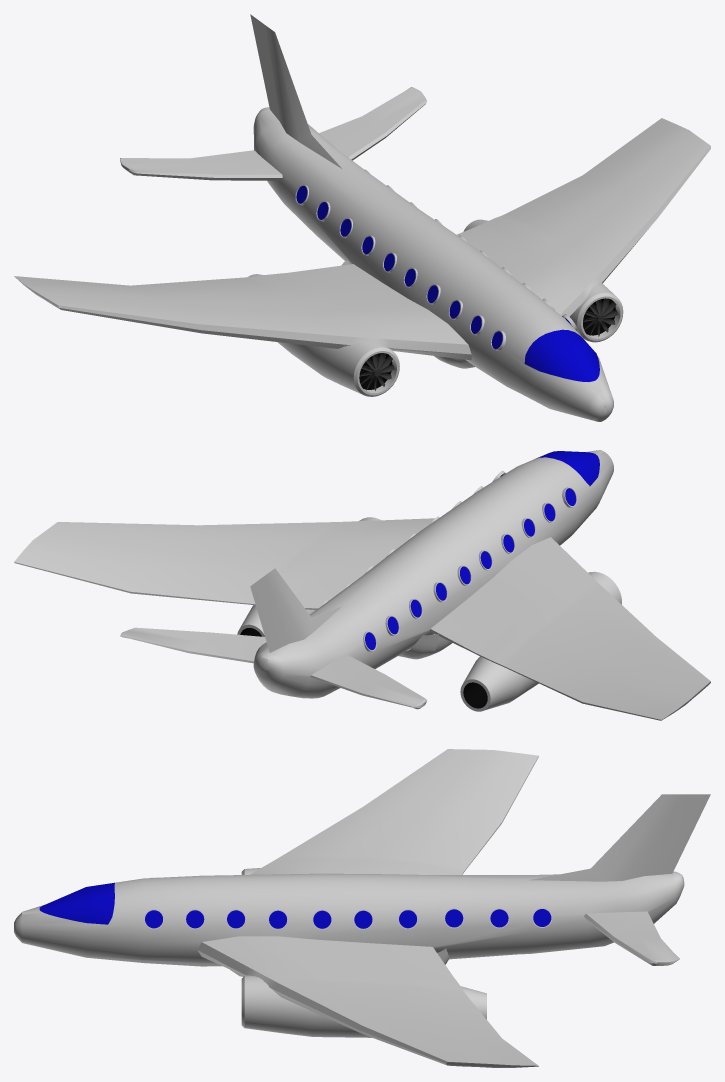
Rendered from САМОЛЕТ.obj.
3 renders of one model, top to bottom at view 1: azimuth 30°, elevation 25°; view 2: azimuth 150°, elevation 25°; view 3: azimuth 270°, elevation 25°, orthographic.
Parts seen in each view (by area): view 1: Cube, Цилиндр.003, Цилиндр.001, Цилиндр.002, Цилиндр.004; view 2: Cube, Цилиндр.003, Цилиндр, Цилиндр.001; view 3: Cube, Цилиндр.001.
Part boxes in pixels (<box>): Cube: <box>14,14,710,421</box>; Цилиндр.003: <box>247,274,399,396</box>; Цилиндр.001: <box>463,219,623,342</box>; Цилиндр.002: <box>583,298,618,336</box>; Цилиндр.004: <box>359,353,394,390</box>; Cube: <box>14,450,710,720</box>; Цилиндр.003: <box>460,571,621,711</box>; Цилиндр: <box>398,634,452,659</box>; Цилиндр.001: <box>237,517,380,636</box>; Cube: <box>14,749,710,1067</box>; Цилиндр.001: <box>241,975,486,1037</box>.
Size of the model in its own units: 15.91 by 4.41 by 14.91.
